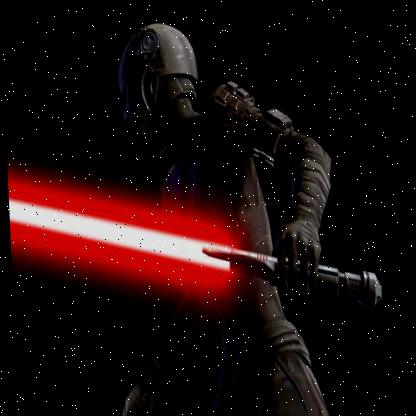sith_lightsaber: (9, 178, 386, 327)
